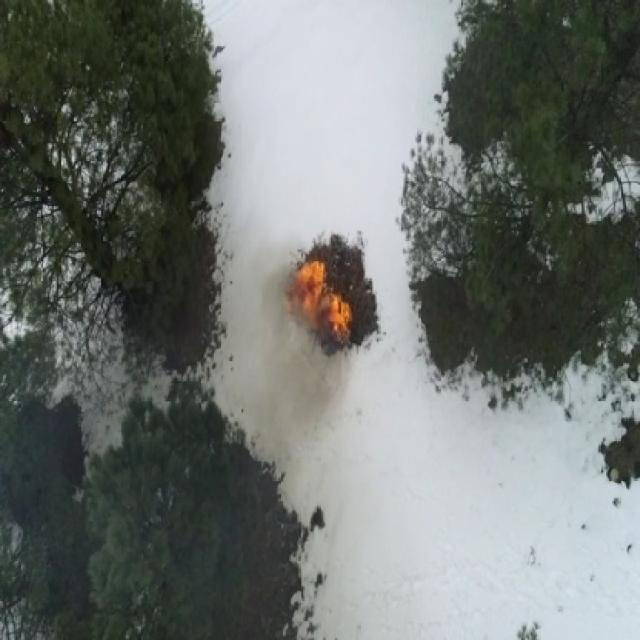Fire: (300, 259, 326, 314), (310, 296, 351, 323), (334, 324, 353, 341), (292, 280, 302, 308)
